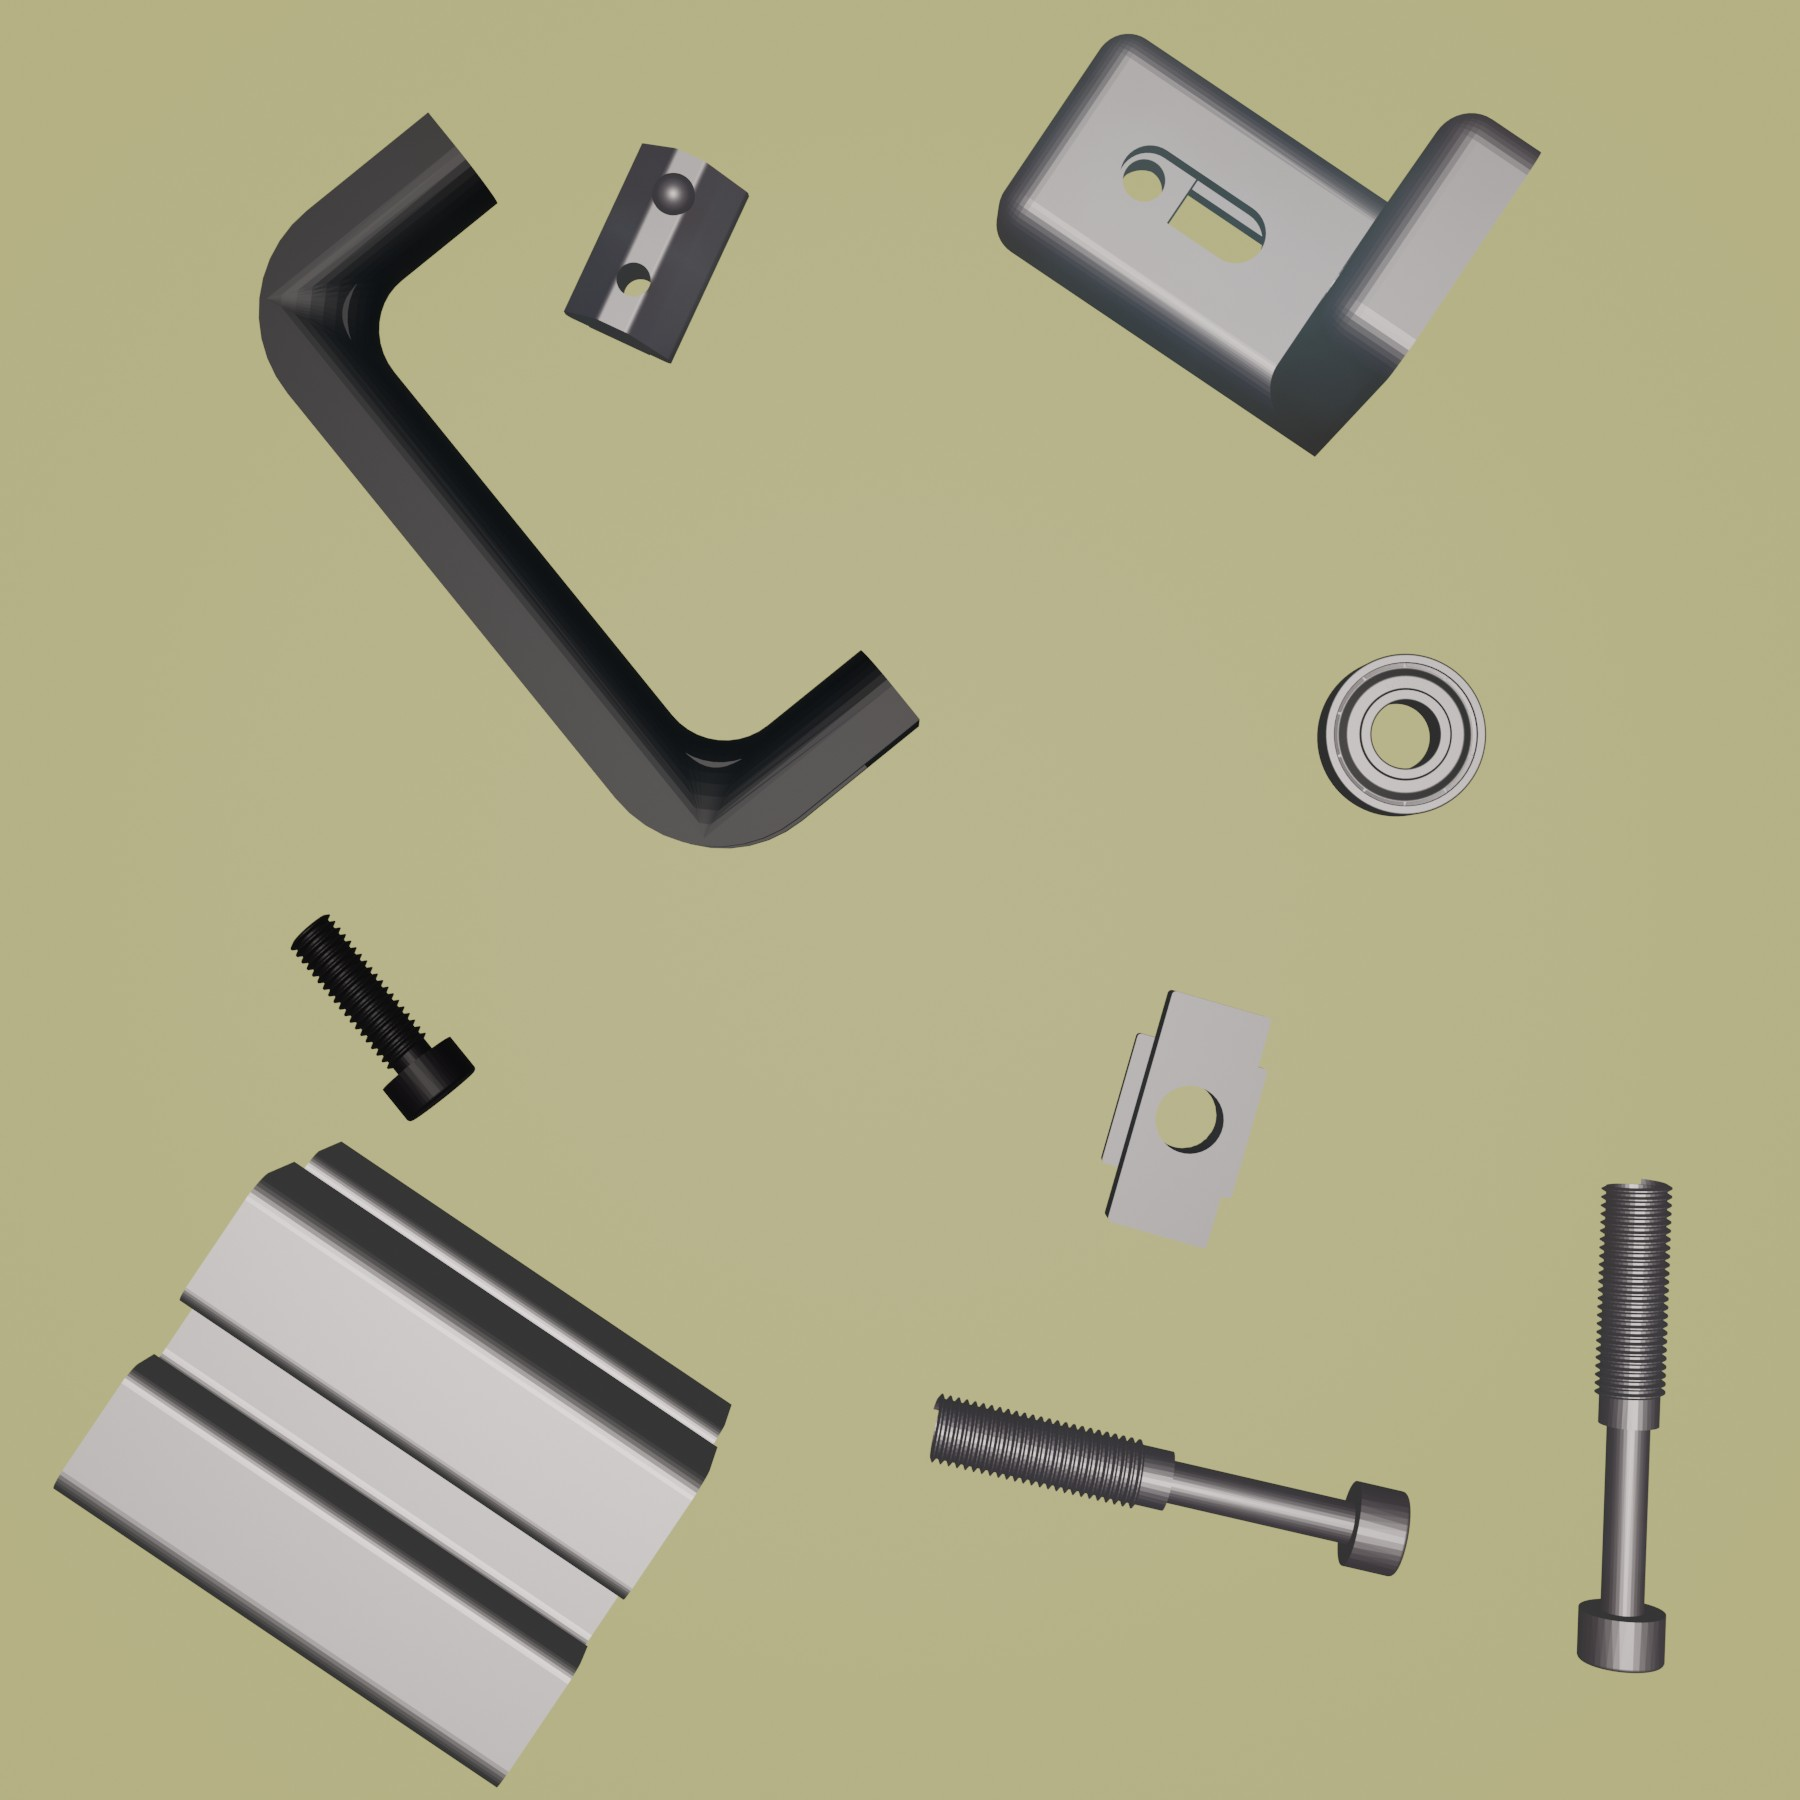Aluminium Extension: (51, 1139, 738, 1792)
Ball Bearing: (1315, 651, 1490, 819)
Multiwinkel: (992, 31, 1541, 462)
Pull Handle: (255, 109, 921, 851)
Shoulder Socket Head Cap Screw: (925, 1390, 1413, 1581), (1573, 1175, 1673, 1676)
Socket Head Cap Screw: (285, 912, 478, 1123)
T Nut Square: (1098, 984, 1277, 1249)
T Spring Nut: (560, 142, 752, 364)
